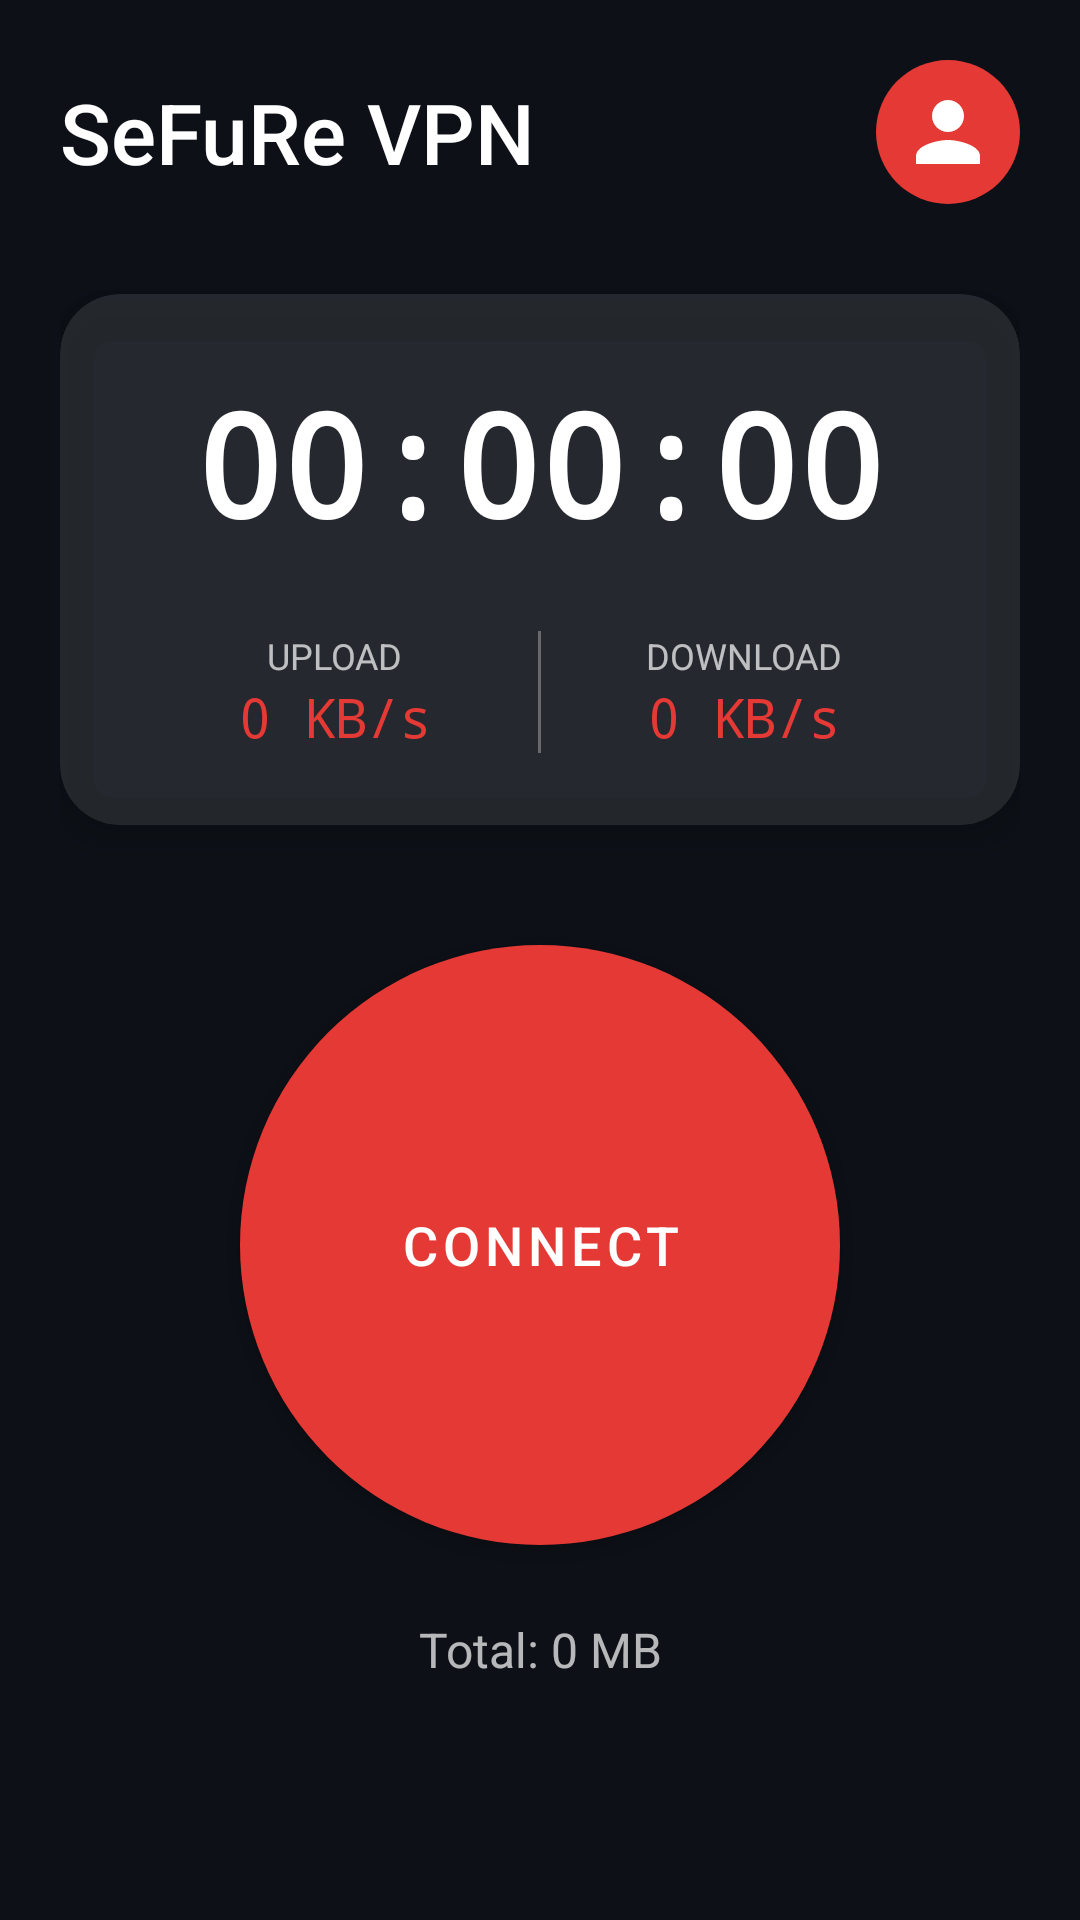

Where icons sit on this 1080px×1920px app screen, as detection(x1, y1, x2, y2):
admin: detection(876, 60, 1020, 204)
